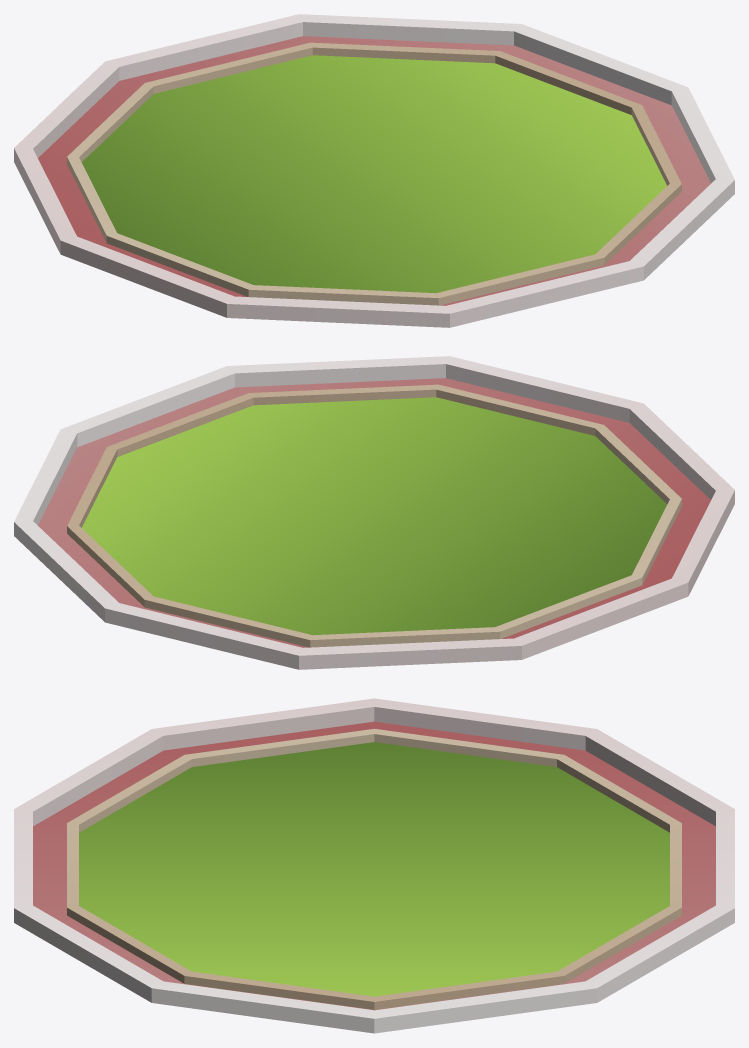
Rendered from garden.fbx.
3 renders of one model, top to bottom at view 1: azimuth 30°, elevation 25°; view 2: azimuth 150°, elevation 25°; view 3: azimuth 270°, elevation 25°, orthographic. The views are drawn at different scales.
Visible parts, largest first — view 1: Circle; view 2: Circle; view 3: Circle.
Boxes of the visible parts, box(x1,y1,x2,y2) form: Circle: box(14, 14, 734, 327); Circle: box(14, 356, 734, 669); Circle: box(14, 698, 734, 1033).
Size of the model in its own units: 101 by 2.16 by 95.78.
1 material, 1 textured.
